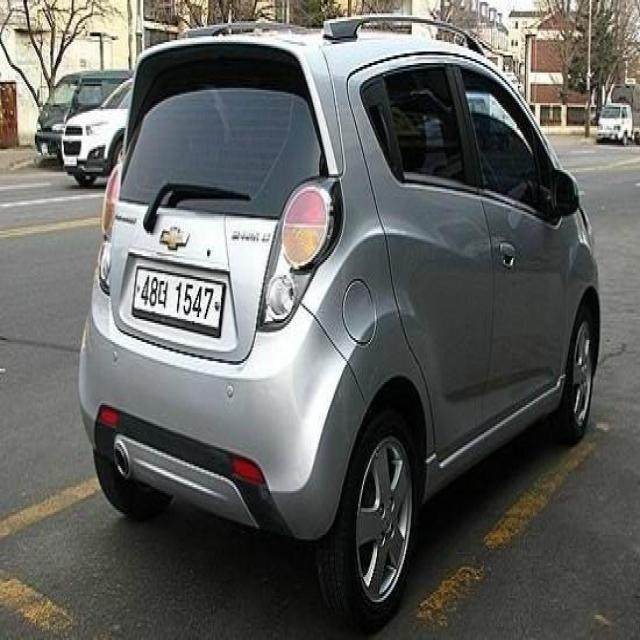car: (69, 6, 606, 625)
illegal_plate: (132, 256, 229, 340)
